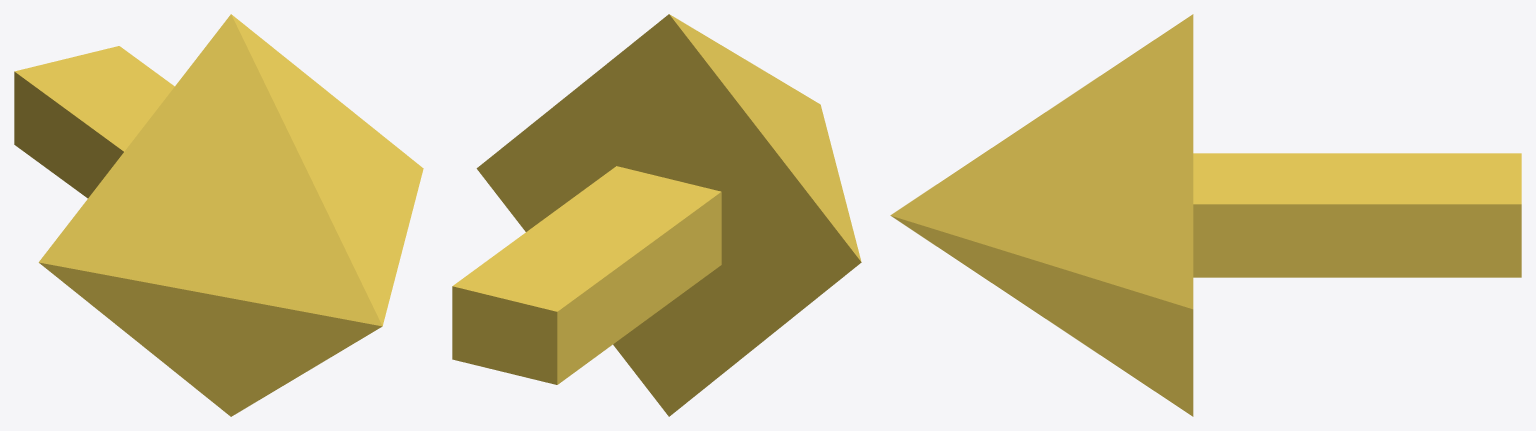
File: Flecha.fbx
3 renders of one model, left to right at view 1: azimuth 30°, elevation 25°; view 2: azimuth 150°, elevation 25°; view 3: azimuth 270°, elevation 25°, orthographic.
Visible parts, largest first — view 1: Punta, Cola; view 2: Punta, Cola; view 3: Punta, Cola.
Boxes of the visible parts, left/top/right/bottom form: Punta: left=38, top=14, right=423, bottom=416; Cola: left=14, top=46, right=174, bottom=198; Punta: left=476, top=14, right=861, bottom=416; Cola: left=452, top=166, right=721, bottom=384; Punta: left=890, top=14, right=1193, bottom=416; Cola: left=1193, top=153, right=1521, bottom=277.
Size of the model in its own units: 0.44 by 0.44 by 0.625.
